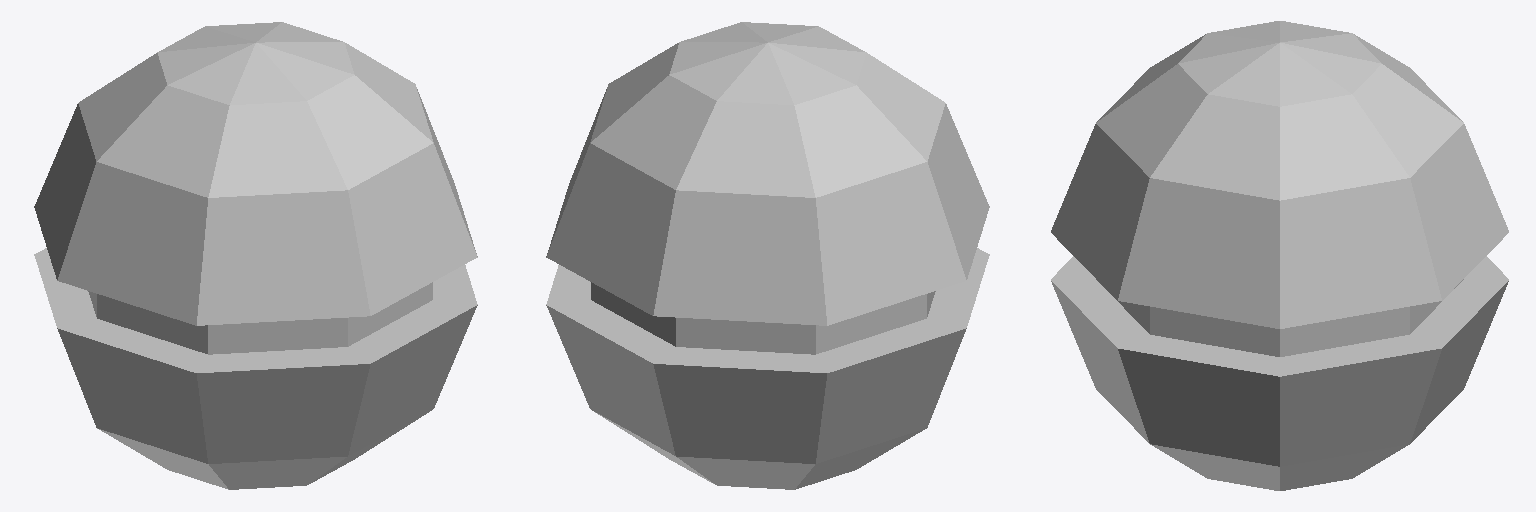
File: constructorDrone.obj
3 renders of one model, left to right at view 1: azimuth 30°, elevation 25°; view 2: azimuth 150°, elevation 25°; view 3: azimuth 270°, elevation 25°, orthographic.
Parts seen in each view (by area): view 1: Sphere_Drone; view 2: Sphere_Drone; view 3: Sphere_Drone.
Boxes of the visible parts, <box> form: Sphere_Drone: <box>34,22,477,489</box>; Sphere_Drone: <box>546,22,989,489</box>; Sphere_Drone: <box>1051,21,1508,490</box>.
Size of the model in its own units: 1.95 by 2 by 1.95.